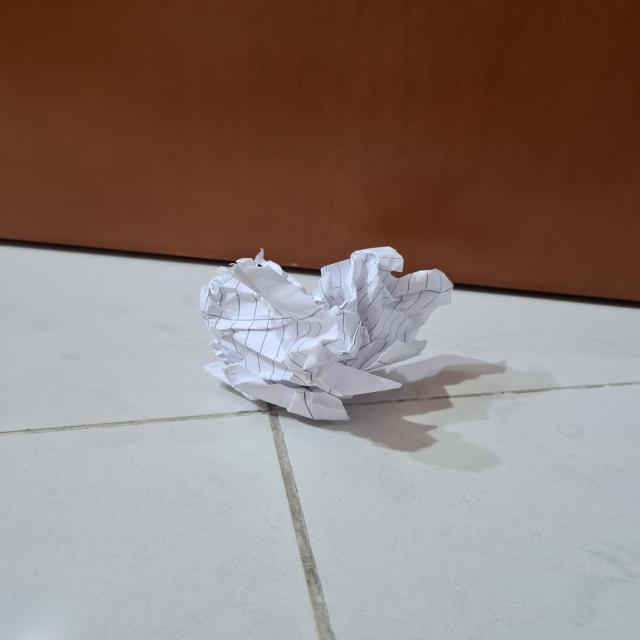Organik: (206, 245, 477, 426)
